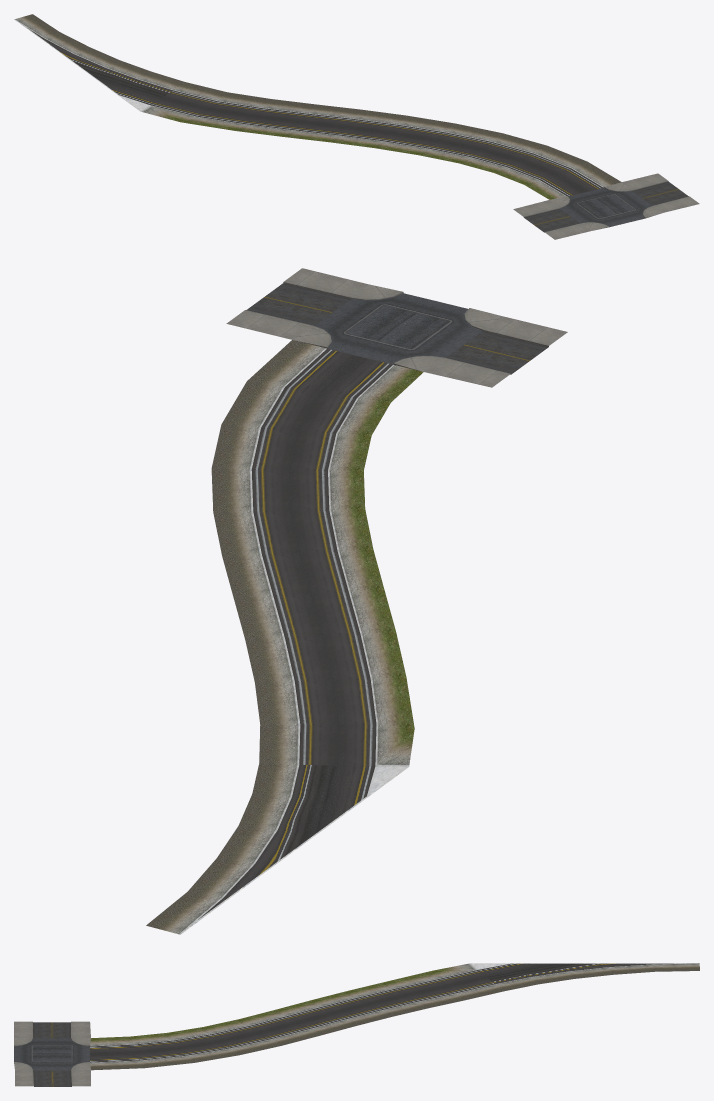
Rendered from vegasnroad622.obj.
The picture shows the model from 3 angles, top to bottom: view 1: azimuth 30°, elevation 25°; view 2: azimuth 150°, elevation 25°; view 3: azimuth 270°, elevation 25°; orthographic projection. The views are drawn at different scales.
Parts seen in each view (by area): view 1: VegasNroad622; view 2: VegasNroad622; view 3: VegasNroad622.
Boxes of the visible parts, x1,y1,x2,y2 form: VegasNroad622: [14, 14, 699, 239]; VegasNroad622: [146, 268, 567, 934]; VegasNroad622: [14, 963, 699, 1086].
Size of the model in its own units: 85.43 by 4.44 by 180.
Materials: 10 (10 with a texture image).
